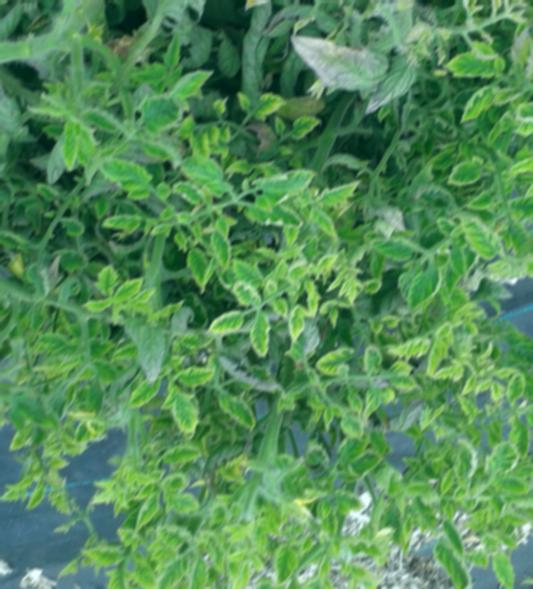Tomato leaf yellow virus: (95, 151, 165, 204), (136, 83, 201, 134), (451, 207, 506, 264), (434, 436, 478, 504), (161, 59, 220, 105), (445, 39, 512, 79), (178, 153, 240, 195), (400, 252, 439, 314), (430, 544, 482, 589), (127, 357, 168, 413), (58, 97, 84, 174), (438, 151, 492, 188), (163, 380, 200, 433), (257, 194, 306, 231), (154, 471, 199, 511), (257, 166, 319, 195), (457, 84, 500, 123), (365, 228, 415, 261), (318, 175, 365, 209), (132, 494, 168, 537), (308, 203, 344, 245), (285, 114, 338, 142), (385, 330, 434, 360), (502, 357, 529, 410), (156, 551, 192, 589), (483, 440, 519, 477), (248, 310, 276, 357), (178, 358, 220, 389), (272, 542, 302, 584), (246, 92, 288, 121), (326, 484, 372, 510), (207, 224, 236, 265), (488, 551, 519, 589), (109, 274, 148, 303), (185, 247, 209, 294), (317, 342, 350, 376), (234, 275, 267, 309), (208, 304, 247, 332), (284, 303, 310, 343), (156, 441, 202, 463), (341, 408, 367, 440), (106, 558, 130, 589)
